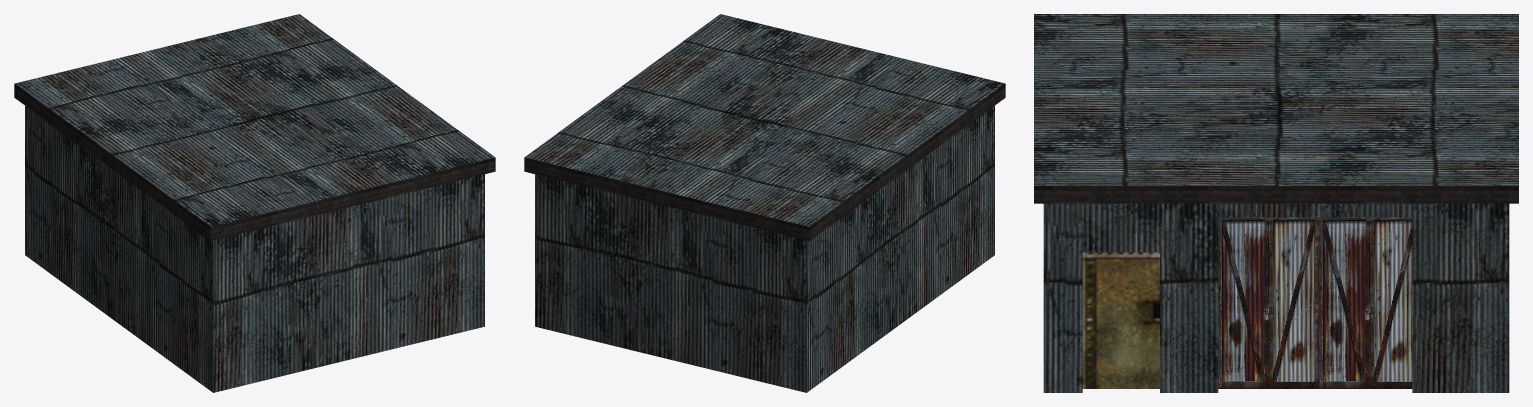
File: SmallGarage01.dae
The picture shows the model from 3 angles, left to right: view 1: azimuth 30°, elevation 25°; view 2: azimuth 150°, elevation 25°; view 3: azimuth 270°, elevation 25°; orthographic projection. The views are drawn at different scales.
Visible parts, largest first — view 1: BSP.016; view 2: BSP.016; view 3: BSP.016.
Part boxes in pixels (x1,y1,x2,y2): BSP.016: (14,14,495,392); BSP.016: (524,14,1005,392); BSP.016: (1034,14,1518,392).
Bounding box in the file's own units: 6.3 × 7.5 × 3.6.
